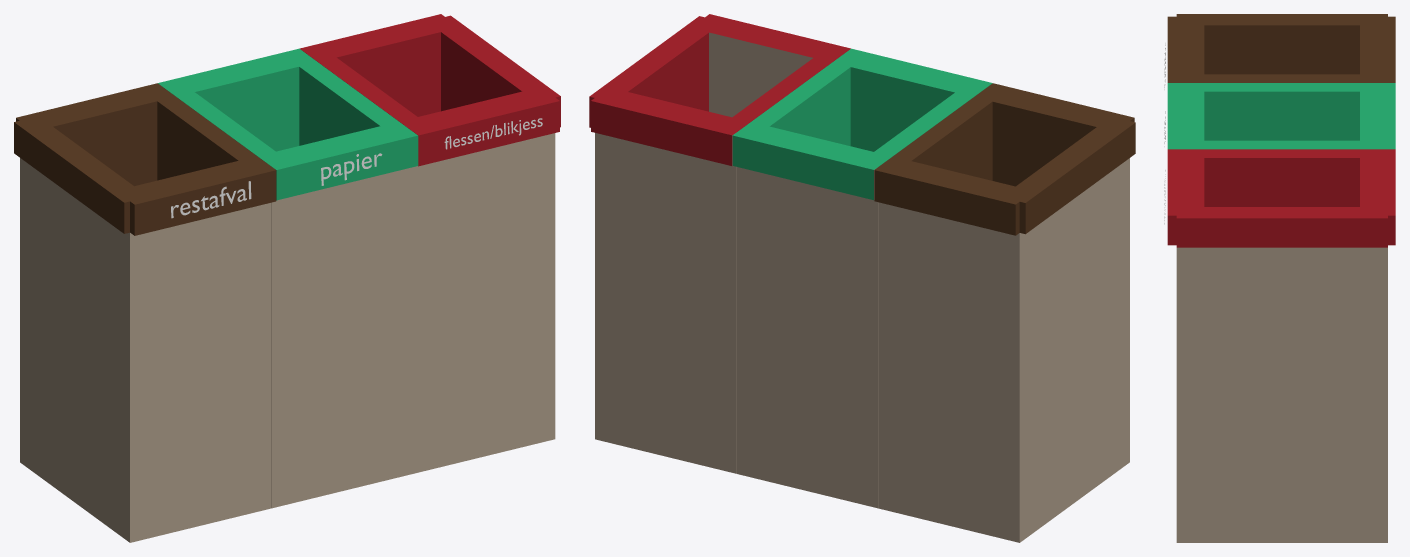
The model's file is prullenbak.fbx.
The picture shows the model from 3 angles, left to right: view 1: azimuth 30°, elevation 25°; view 2: azimuth 150°, elevation 25°; view 3: azimuth 270°, elevation 25°; orthographic projection. The views are drawn at different scales.
Parts seen in each view (by area): view 1: Cube.009, Cube.001, Cube.002, Cube.003, Cube.004, Cube.005, Cube.006; view 2: Cube.009, Cube.002, Cube.001, Cube.004, Cube.005, Cube.003, Cube.006, Cube.008, Cube.007; view 3: Cube.002, Cube.003, Cube.004, Cube.005, Cube.010.
Boxes of the visible parts, x1,y1,x2,y2 form: Cube.009: (20,158,271,542); Cube.001: (159,84,413,508); Cube.002: (413,133,555,473); Cube.003: (300,14,560,166); Cube.004: (14,83,276,235); Cube.005: (158,48,418,200); Cube.006: (14,118,124,233); Cube.009: (878,158,1129,542); Cube.002: (595,32,812,473); Cube.001: (736,167,878,508); Cube.004: (875,83,1135,204); Cube.005: (733,48,992,169); Cube.003: (589,14,850,135); Cube.006: (874,123,1135,235); Cube.008: (589,96,732,165); Cube.007: (732,135,873,200); Cube.002: (1176,247,1387,542); Cube.003: (1167,149,1395,247); Cube.004: (1167,14,1395,82); Cube.005: (1167,83,1395,149); Cube.010: (1167,215,1176,245).
Bounding box in the file's own units: 851 × 636 × 407.
